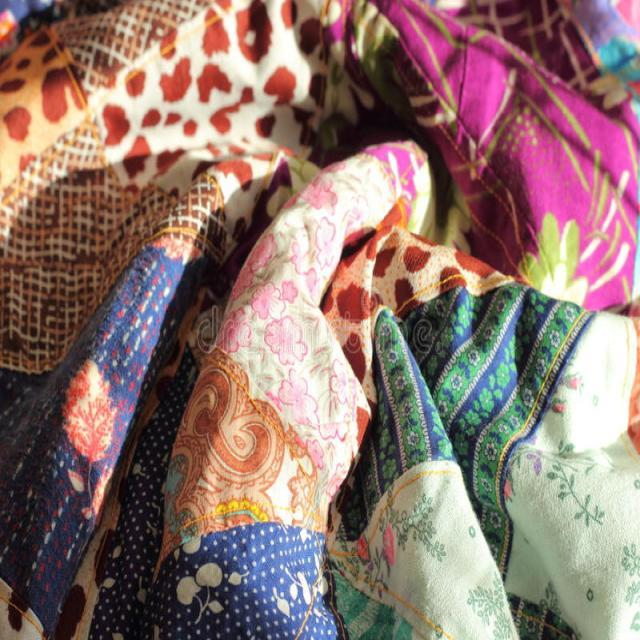clothes: (40, 62, 606, 612)
